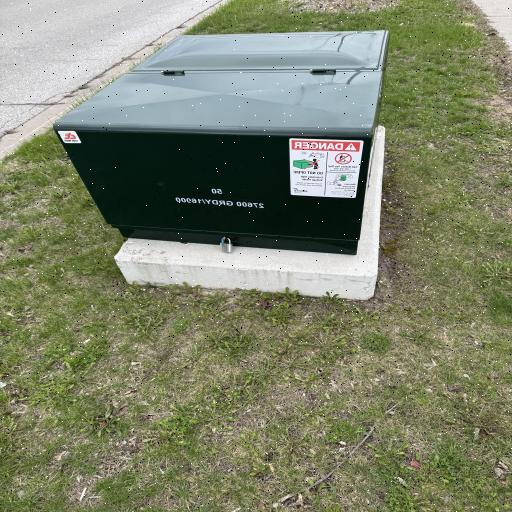Electrical Box: (51, 27, 392, 255)
